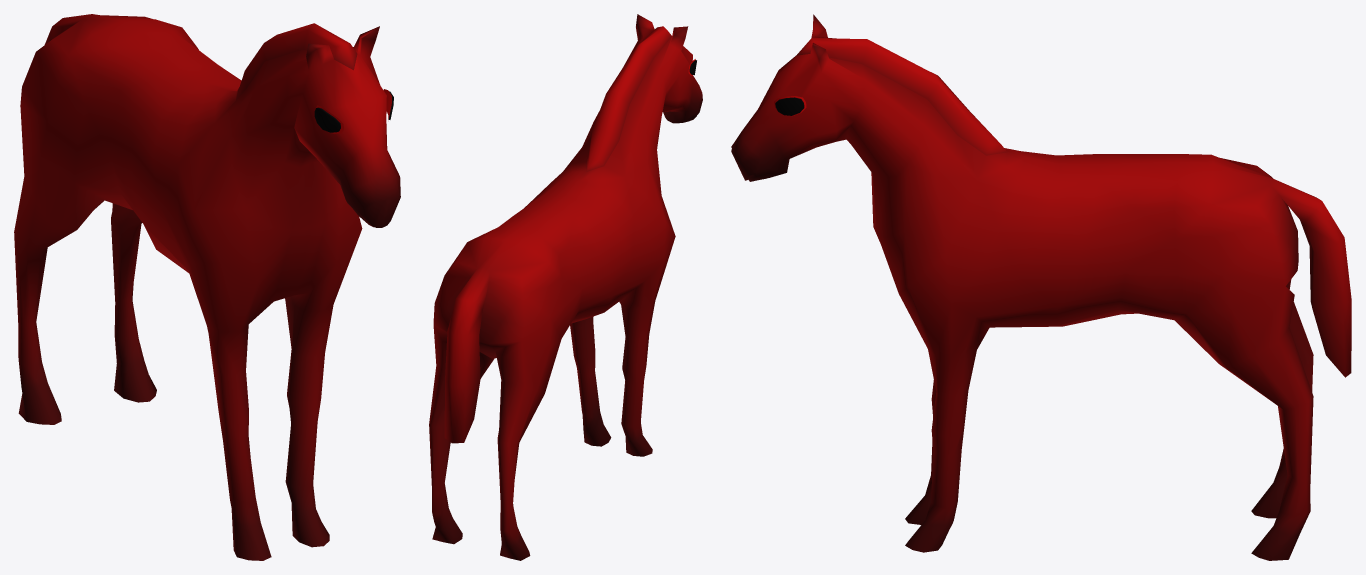
The model's file is Animals_GrayHorse.fbx.
3 views of the same model, side by side, from view 1: azimuth 30°, elevation 25°; view 2: azimuth 150°, elevation 25°; view 3: azimuth 270°, elevation 25° (orthographic). The views are drawn at different scales.
Visible parts, largest first — view 1: base; view 2: base; view 3: base.
Part boxes in pixels (bbox=[...]): base: bbox=[14, 14, 400, 560]; base: bbox=[429, 14, 702, 560]; base: bbox=[731, 14, 1351, 560].
Bounding box in the file's own units: 56.05 × 191 × 214.
